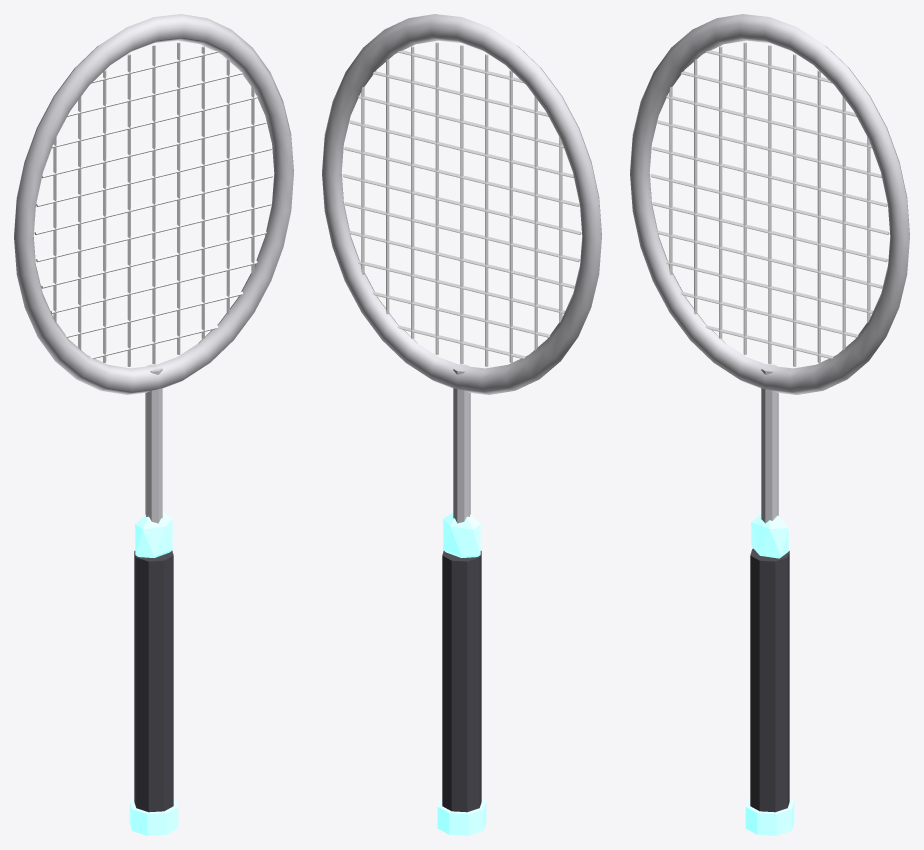
File: racket_round.glb
3 renders of one model, left to right at view 1: azimuth 30°, elevation 25°; view 2: azimuth 150°, elevation 25°; view 3: azimuth 330°, elevation 25°, orthographic.
Visible parts, largest first — view 1: Head, Strings, Grip, Shaft, Gem, Cap; view 2: Head, Strings, Grip, Shaft, Gem, Cap; view 3: Head, Strings, Grip, Shaft, Gem, Cap.
Boxes of the visible parts, x1,y1,x2,y2 form: Head: (14, 14, 293, 394); Strings: (34, 42, 273, 366); Grip: (134, 550, 173, 812); Shaft: (145, 364, 162, 523); Gem: (135, 512, 172, 557); Cap: (129, 798, 178, 835); Head: (322, 14, 601, 394); Strings: (342, 42, 581, 366); Grip: (442, 550, 481, 812); Shaft: (453, 364, 470, 523); Gem: (443, 512, 480, 557); Cap: (437, 798, 486, 835); Head: (630, 14, 909, 394); Strings: (650, 42, 889, 366); Grip: (750, 548, 789, 812); Shaft: (761, 364, 778, 523); Gem: (751, 514, 788, 558); Cap: (745, 798, 794, 835).
Size of the model in its own units: 0.2688 by 0.742 by 0.042.
